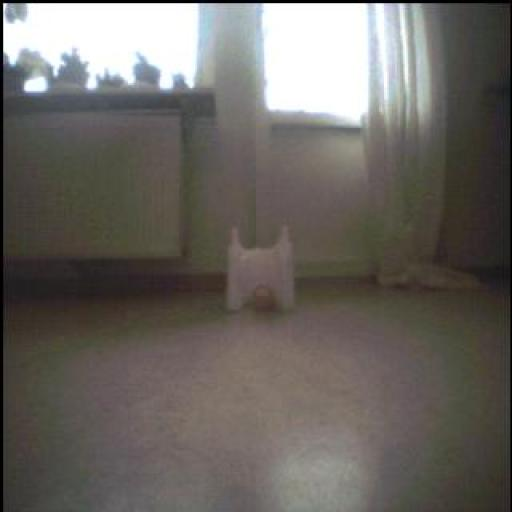Basket: (251, 285, 276, 314)
